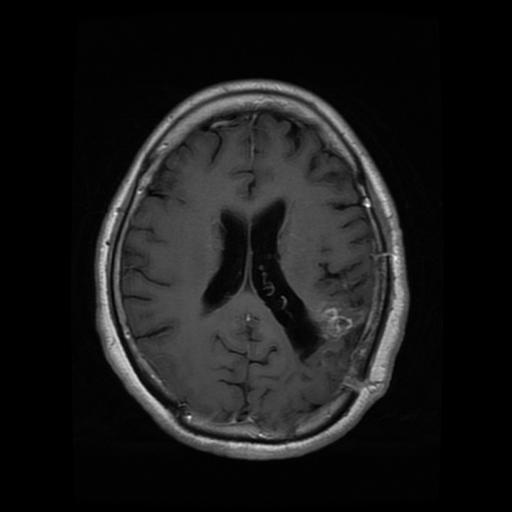Gliomia_tumour: (262, 284, 356, 363)
